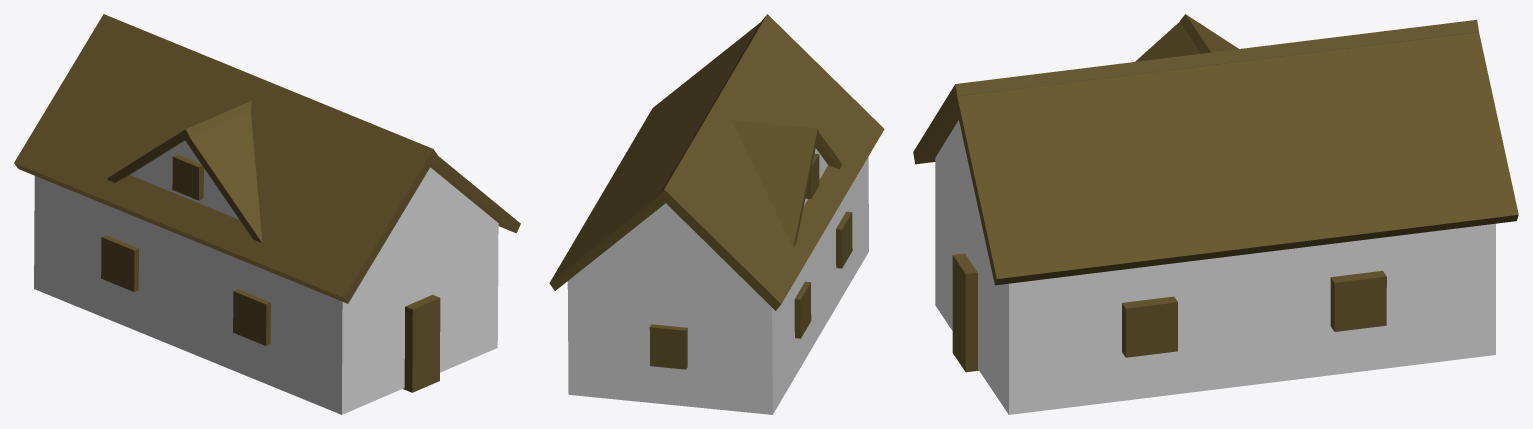
File: white-house-fbx.fbx
The picture shows the model from 3 angles, left to right: view 1: azimuth 30°, elevation 25°; view 2: azimuth 150°, elevation 25°; view 3: azimuth 270°, elevation 25°; orthographic projection. The views are drawn at different scales.
Visible parts, largest first — view 1: Untitled.043; view 2: Untitled.043; view 3: Untitled.043.
Boxes of the visible parts, bbox=[...] form: Untitled.043: bbox=[14, 14, 520, 414]; Untitled.043: bbox=[549, 14, 884, 414]; Untitled.043: bbox=[913, 14, 1518, 414].
Size of the model in its own units: 8.12 by 5.75 by 11.15.
